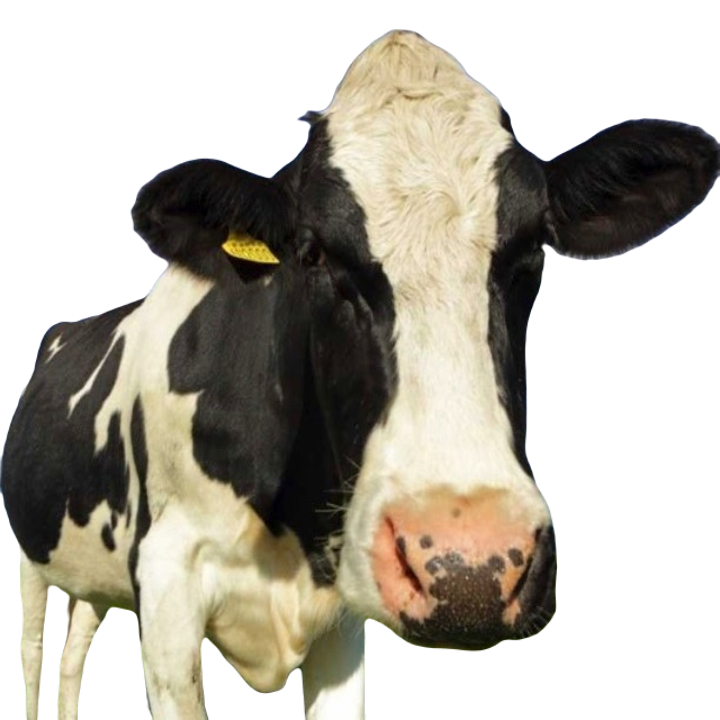Cow: (2, 28, 719, 719)
